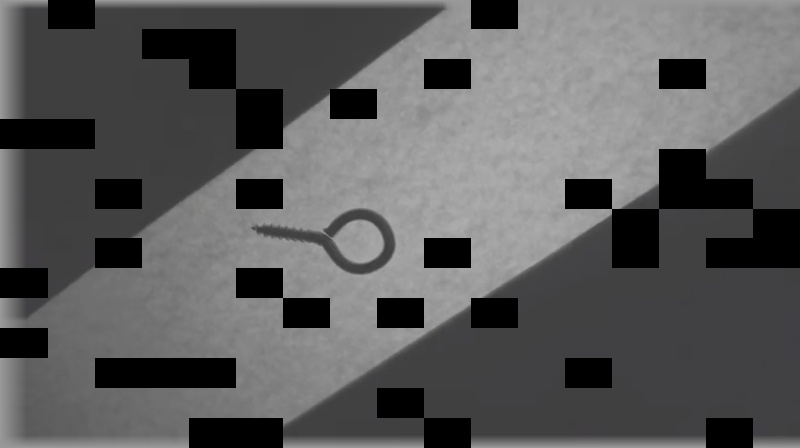O001: (248, 206, 397, 276)
